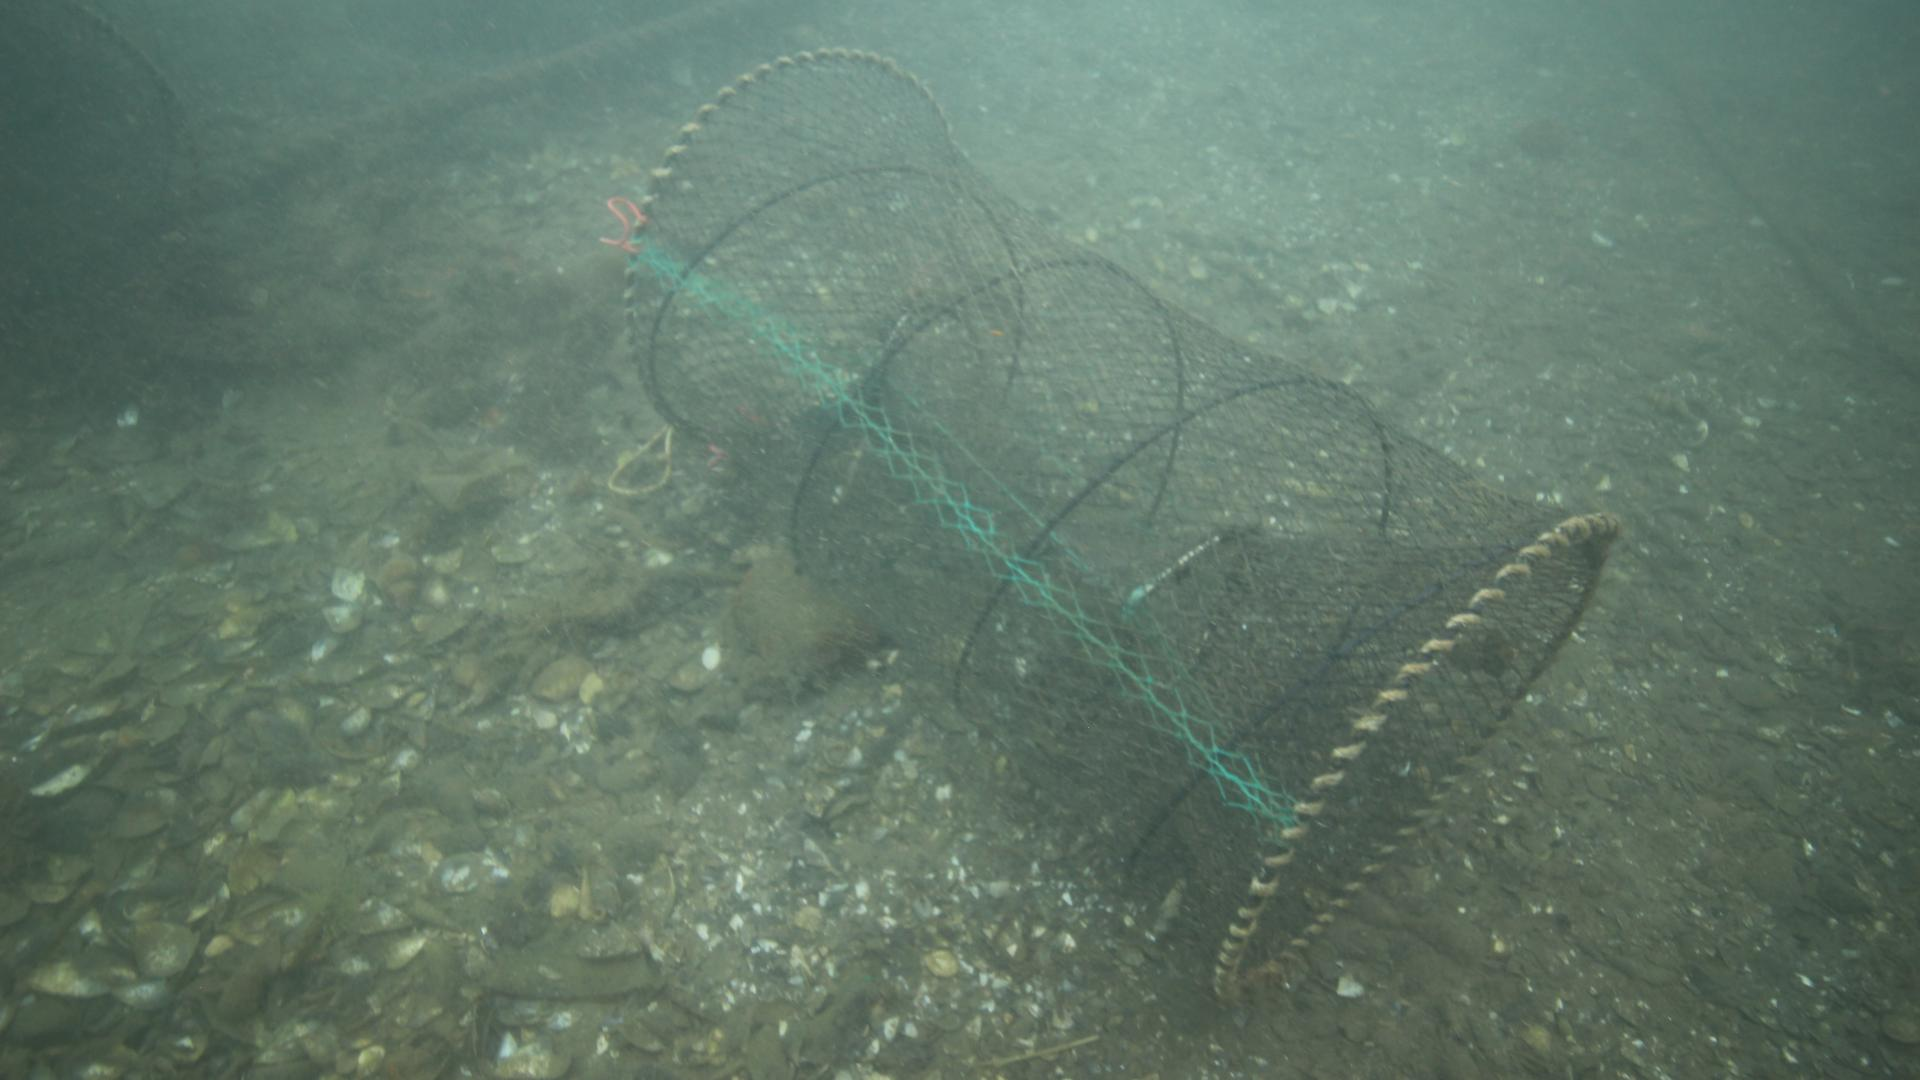rope: (1596, 7, 1920, 407)
spring fish trap: (622, 44, 1625, 1010)
